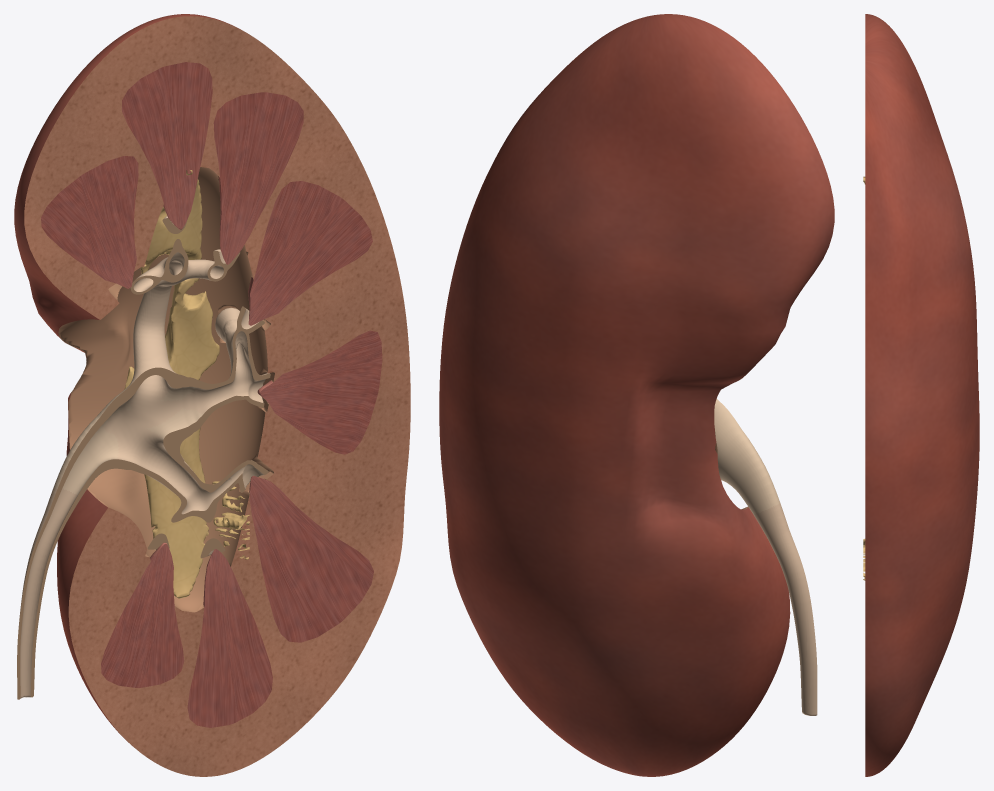
The model's file is window.glb.
3 views of the same model, side by side, from view 1: azimuth 30°, elevation 25°; view 2: azimuth 150°, elevation 25°; view 3: azimuth 270°, elevation 25° (orthographic). The views are drawn at different scales.
Parts seen in each view (by area): view 1: CORTEX_L.posterior, Collecting system | opened wall, PYRAMID_L.06.posterior, SINUS_FAT_L.posterior, PYRAMID_L.04.posterior, PYRAMID_L.03.posterior, PYRAMID_L.07.posterior, PYRAMID_L.02.posterior, PYRAMID_L.05.posterior, PYRAMID_L.01.posterior, PYRAMID_L.08.posterior; view 2: CORTEX_L.posterior, Collecting system | opened wall; view 3: CORTEX_L.posterior.
Boxes of the visible parts, x1,y1,x2,y2 form: CORTEX_L.posterior: (14,14,410,776); Collecting system | opened wall: (17,216,270,699); PYRAMID_L.06.posterior: (249,475,373,642); SINUS_FAT_L.posterior: (124,170,249,598); PYRAMID_L.04.posterior: (248,181,372,325); PYRAMID_L.03.posterior: (213,92,303,264); PYRAMID_L.07.posterior: (187,549,272,727); PYRAMID_L.02.posterior: (122,62,212,229); PYRAMID_L.05.posterior: (257,330,382,454); PYRAMID_L.01.posterior: (41,156,138,288); PYRAMID_L.08.posterior: (101,542,184,687); CORTEX_L.posterior: (439,14,834,776); Collecting system | opened wall: (714,399,817,715); CORTEX_L.posterior: (865,14,979,776).
Size of the model in its own units: 0.0602 by 0.1144 by 0.0169.
11 materials, 5 textured.
